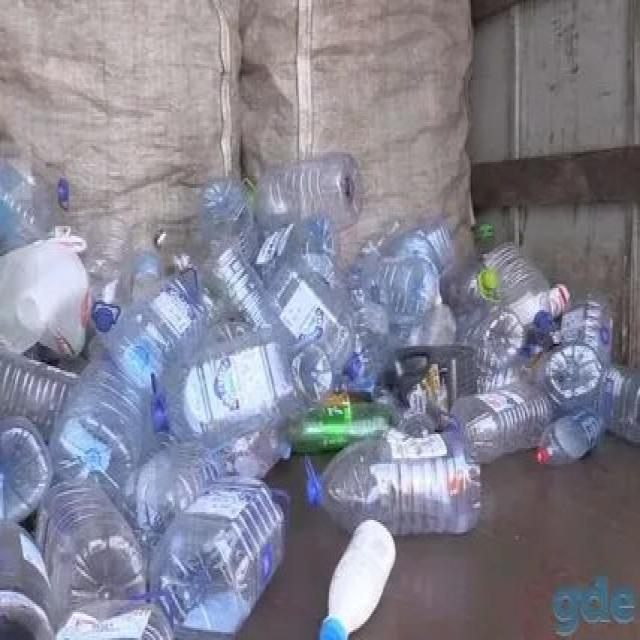blue: (147, 477, 286, 637), (49, 360, 141, 493), (107, 285, 205, 385), (349, 251, 437, 319), (200, 177, 260, 266)
